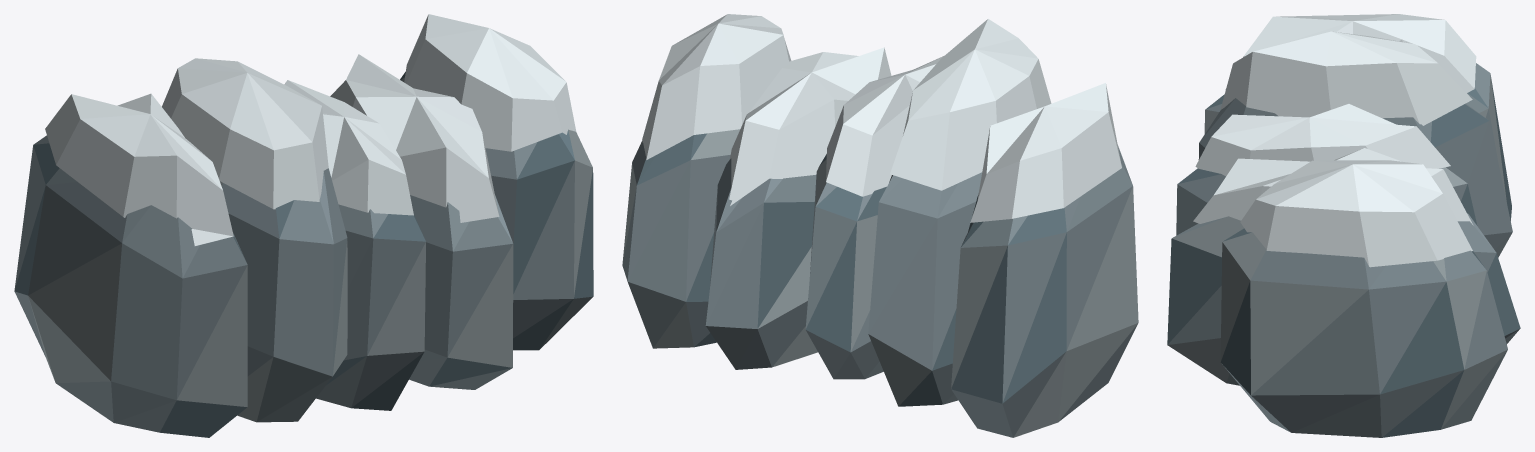
The model's file is ROCK_13_CliffCorner.glb.
The picture shows the model from 3 angles, left to right: view 1: azimuth 30°, elevation 25°; view 2: azimuth 150°, elevation 25°; view 3: azimuth 270°, elevation 25°; orthographic projection. The views are drawn at different scales.
Visible parts, largest first — view 1: ROCK_13_CliffCorner; view 2: ROCK_13_CliffCorner; view 3: ROCK_13_CliffCorner.
Part boxes in pixels (bbox=[...]): ROCK_13_CliffCorner: bbox=[14, 14, 593, 437]; ROCK_13_CliffCorner: bbox=[622, 14, 1138, 437]; ROCK_13_CliffCorner: bbox=[1167, 14, 1520, 437].
Size of the model in its own units: 8.98 by 5.69 by 6.53.
